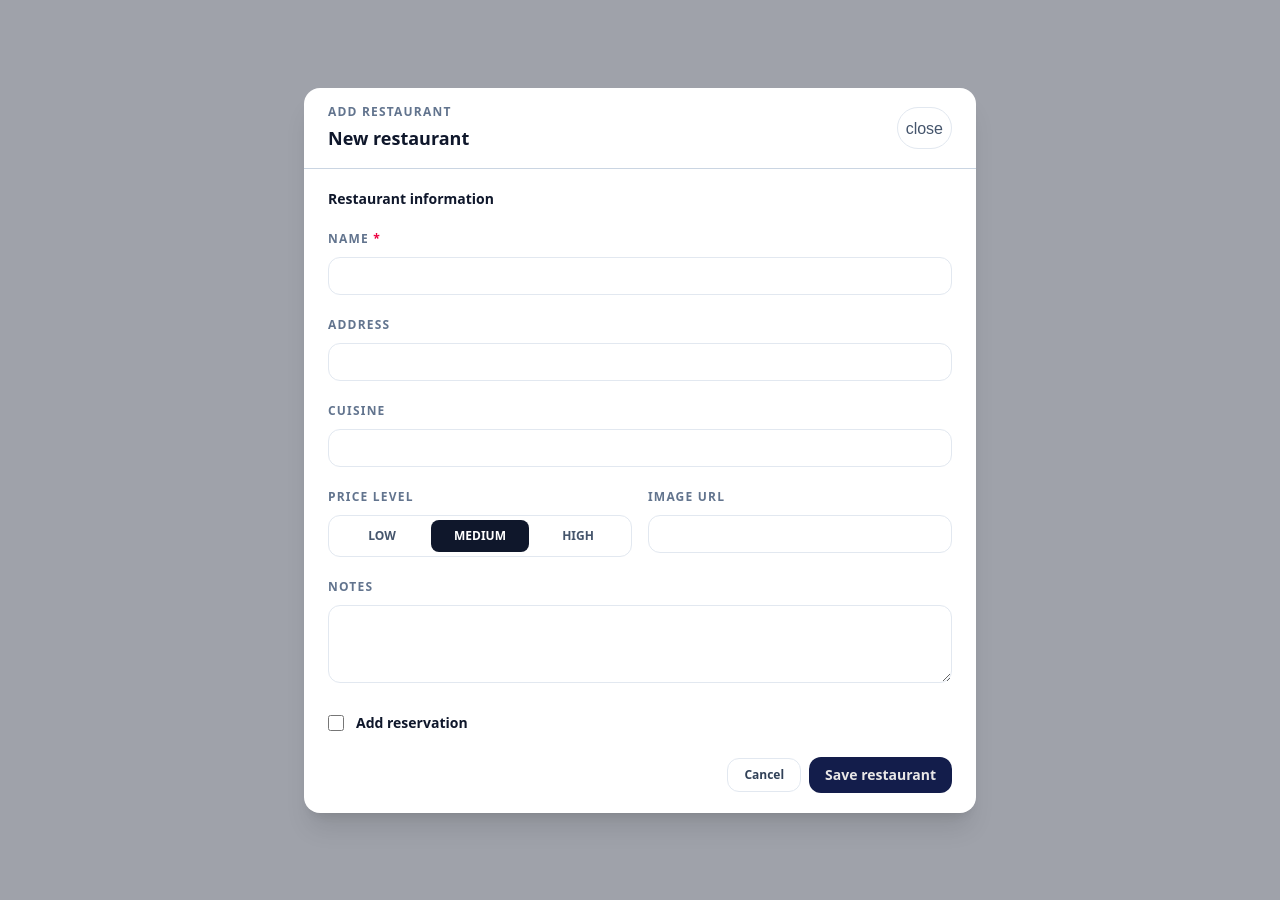
Test: AddRestaurantModal › shows restaurant validation error when required fields are missing
The image size is (1280, 900).
Click the button "Save restaurant".
click(881, 774)  # box x1=809 y1=756 x2=952 y2=792
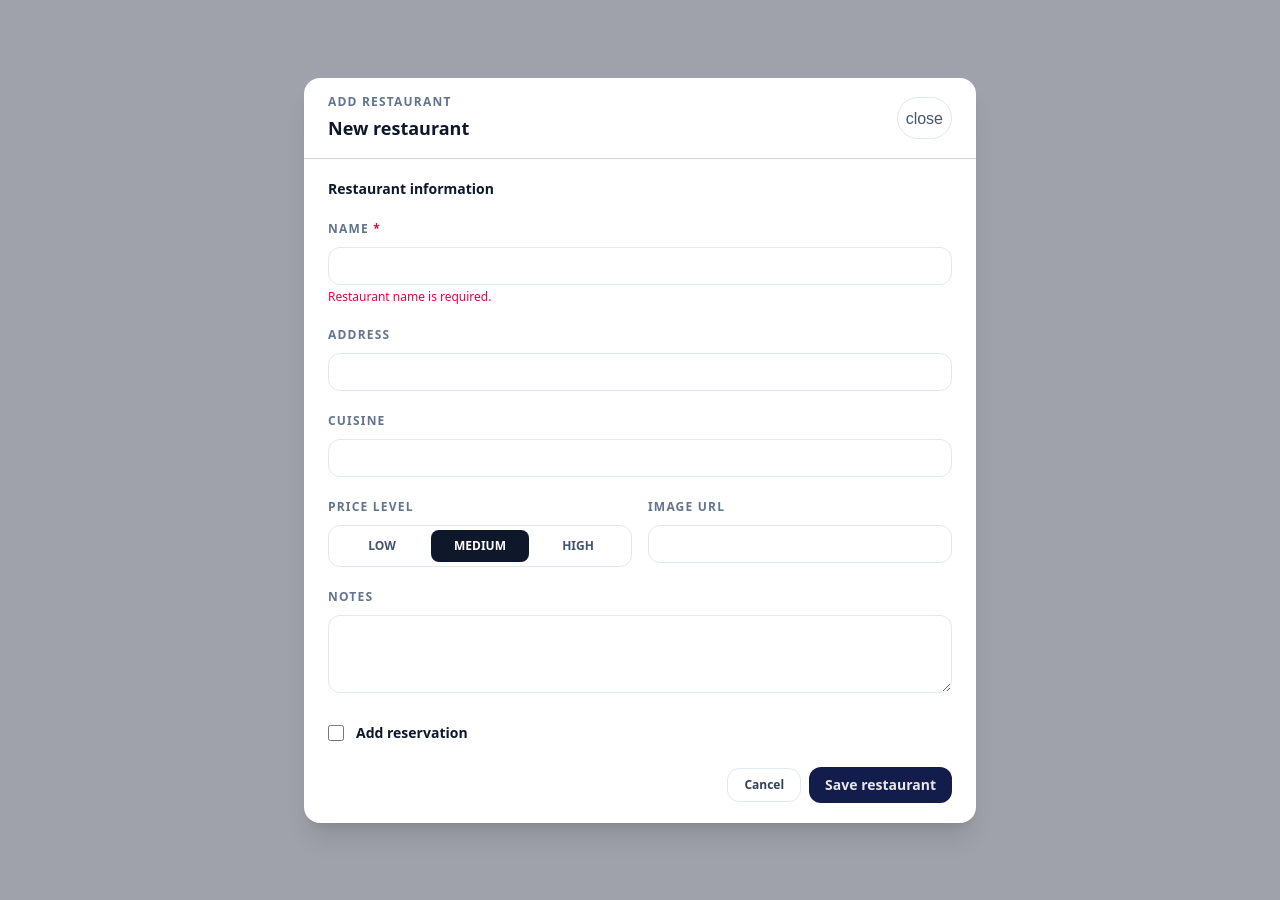
Expected: the text "Restaurant name is required." is shown, x1=328 y1=288 x2=492 y2=304
